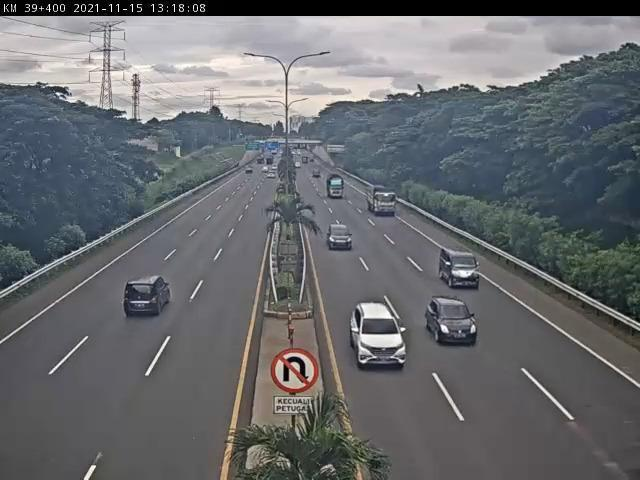car: (350, 301, 408, 366), (426, 298, 480, 349), (124, 275, 175, 317), (439, 245, 480, 289), (328, 225, 355, 254)
